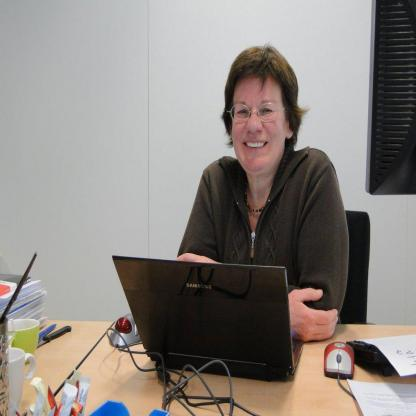board: (111, 260, 303, 392), (7, 316, 39, 362)
